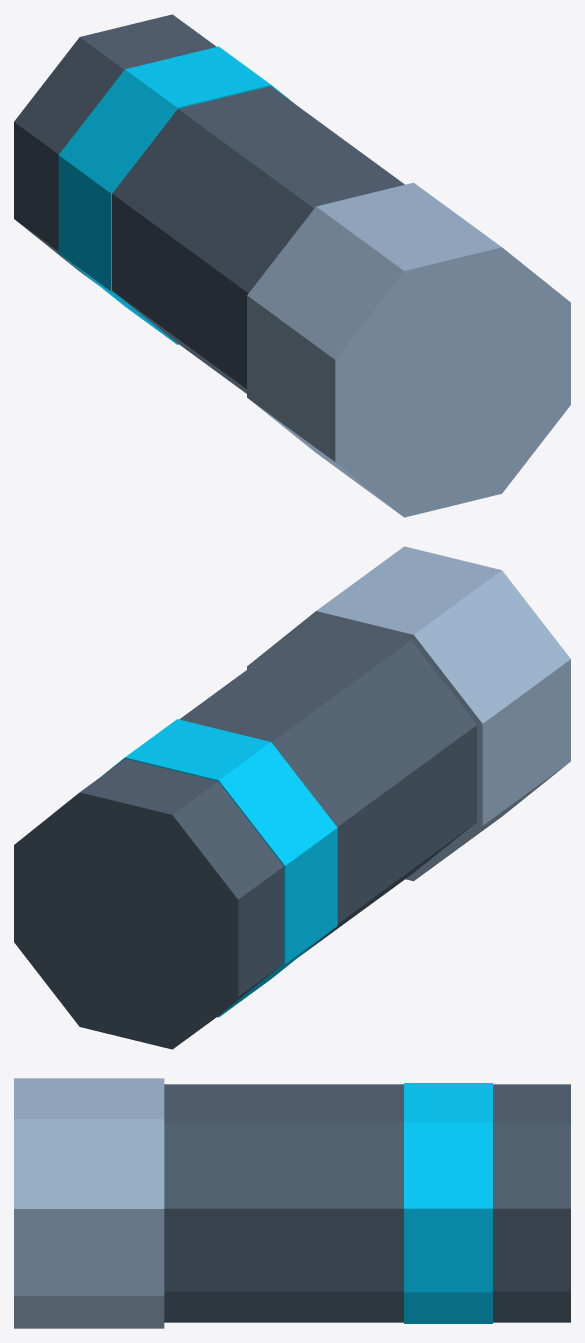
The model's file is ce_ammo_shotgun_emp_a.obj.
3 renders of one model, top to bottom at view 1: azimuth 30°, elevation 25°; view 2: azimuth 150°, elevation 25°; view 3: azimuth 270°, elevation 25°, orthographic. The views are drawn at different scales.
Parts seen in each view (by area): view 1: ce_ammo_shotgun_emp_a_0, ce_ammo_shotgun_emp_a_1, ce_ammo_shotgun_emp_a_2, ce_ammo_shotgun_emp_a_3; view 2: ce_ammo_shotgun_emp_a_3, ce_ammo_shotgun_emp_a_1, ce_ammo_shotgun_emp_a_0, ce_ammo_shotgun_emp_a_2; view 3: ce_ammo_shotgun_emp_a_1, ce_ammo_shotgun_emp_a_0, ce_ammo_shotgun_emp_a_2, ce_ammo_shotgun_emp_a_3.
Boxes of the visible parts, x1=… form: ce_ammo_shotgun_emp_a_0: x1=247, y1=182, x2=570, y2=517; ce_ammo_shotgun_emp_a_1: x1=112, y1=86, x2=404, y2=393; ce_ammo_shotgun_emp_a_2: x1=58, y1=46, x2=293, y2=344; ce_ammo_shotgun_emp_a_3: x1=14, y1=14, x2=216, y2=283; ce_ammo_shotgun_emp_a_3: x1=14, y1=759, x2=283, y2=1049; ce_ammo_shotgun_emp_a_1: x1=179, y1=617, x2=476, y2=956; ce_ammo_shotgun_emp_a_0: x1=247, y1=546, x2=570, y2=881; ce_ammo_shotgun_emp_a_2: x1=102, y1=719, x2=337, y2=1017; ce_ammo_shotgun_emp_a_1: x1=164, y1=1084, x2=403, y2=1322; ce_ammo_shotgun_emp_a_0: x1=14, y1=1078, x2=164, y2=1328; ce_ammo_shotgun_emp_a_2: x1=404, y1=1083, x2=492, y2=1323; ce_ammo_shotgun_emp_a_3: x1=493, y1=1084, x2=570, y2=1322.
Size of the model in its own units: 0.1746 by 0.1746 by 0.42.
